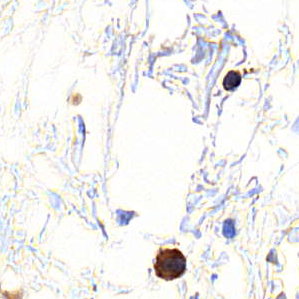Lymphocyte: (154, 245, 187, 281)
